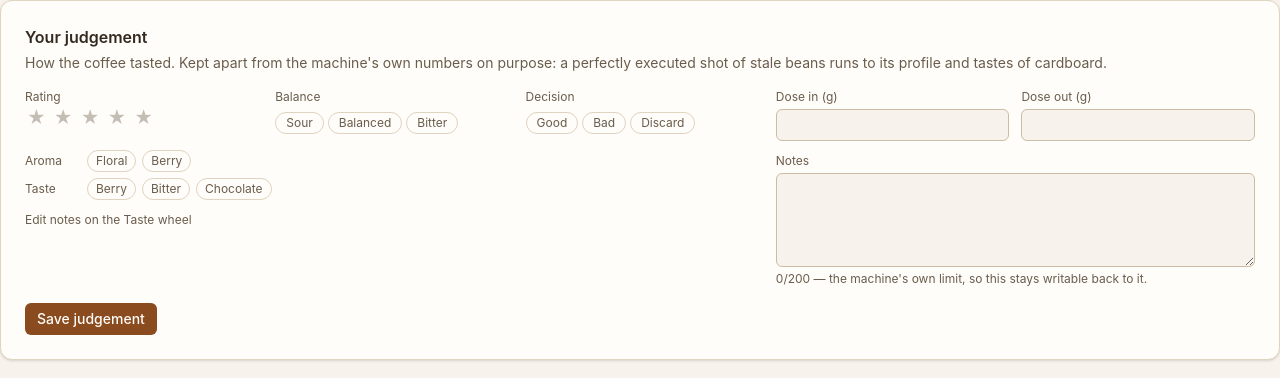
Scenario: JudgementForm › counts the notes against the machine's own 200-character limit
Type "sharp" into the text box labelled "Notes".
click(1015, 220); type("sharp")  # box [776, 173, 1255, 267]
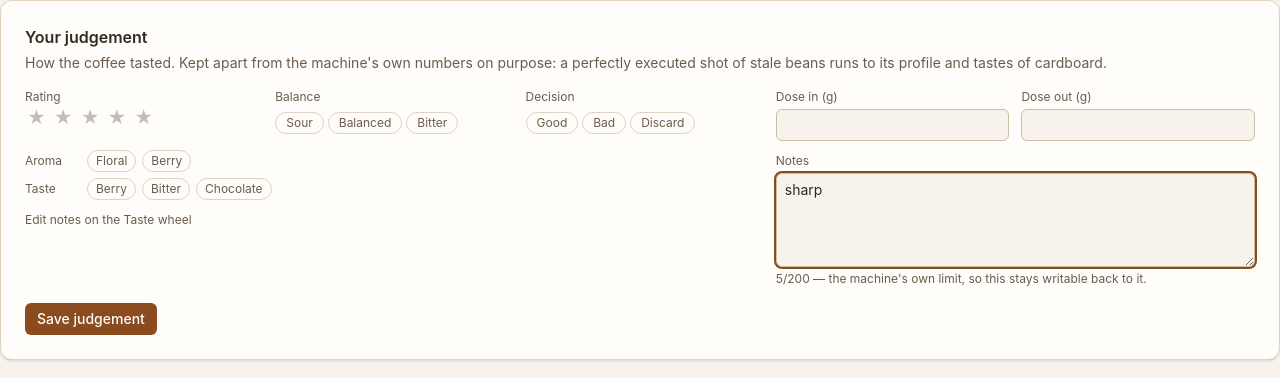
Now the text with test id "notes-counter" shows "5/200", box [776, 271, 1147, 286]
